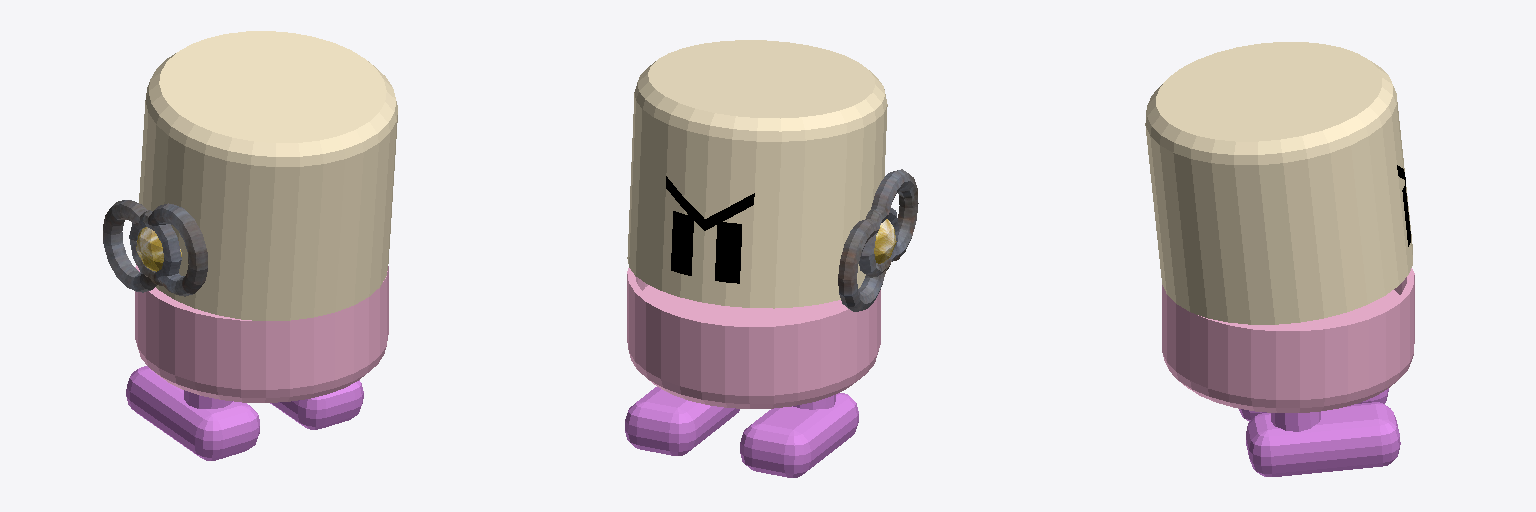
The picture shows the model from 3 angles: view 1: azimuth 30°, elevation 25°; view 2: azimuth 150°, elevation 25°; view 3: azimuth 270°, elevation 25°; orthographic projection.
Parts seen in each view (by area): view 1: Head, Jaw, WindupKey, LeftLeg, RightLeg; view 2: Head, Jaw, LeftLeg, WindupKey, RightLeg; view 3: Head, Jaw, RightLeg.
Boxes of the visible parts, x1=… form: Head: x1=139, y1=31, x2=397, y2=320; Jaw: x1=135, y1=265, x2=388, y2=402; WindupKey: x1=103, y1=200, x2=207, y2=296; LeftLeg: x1=126, y1=366, x2=259, y2=460; RightLeg: x1=270, y1=380, x2=363, y2=429; Head: x1=627, y1=40, x2=887, y2=308; Jaw: x1=627, y1=268, x2=880, y2=408; LeftLeg: x1=740, y1=393, x2=858, y2=477; WindupKey: x1=838, y1=169, x2=918, y2=311; RightLeg: x1=625, y1=387, x2=739, y2=455; Head: x1=1145, y1=42, x2=1412, y2=324; Jaw: x1=1162, y1=268, x2=1414, y2=412; RightLeg: x1=1246, y1=402, x2=1400, y2=476.
Bounding box in the file's own units: 110 × 156 × 106.
6 materials, 2 textured.